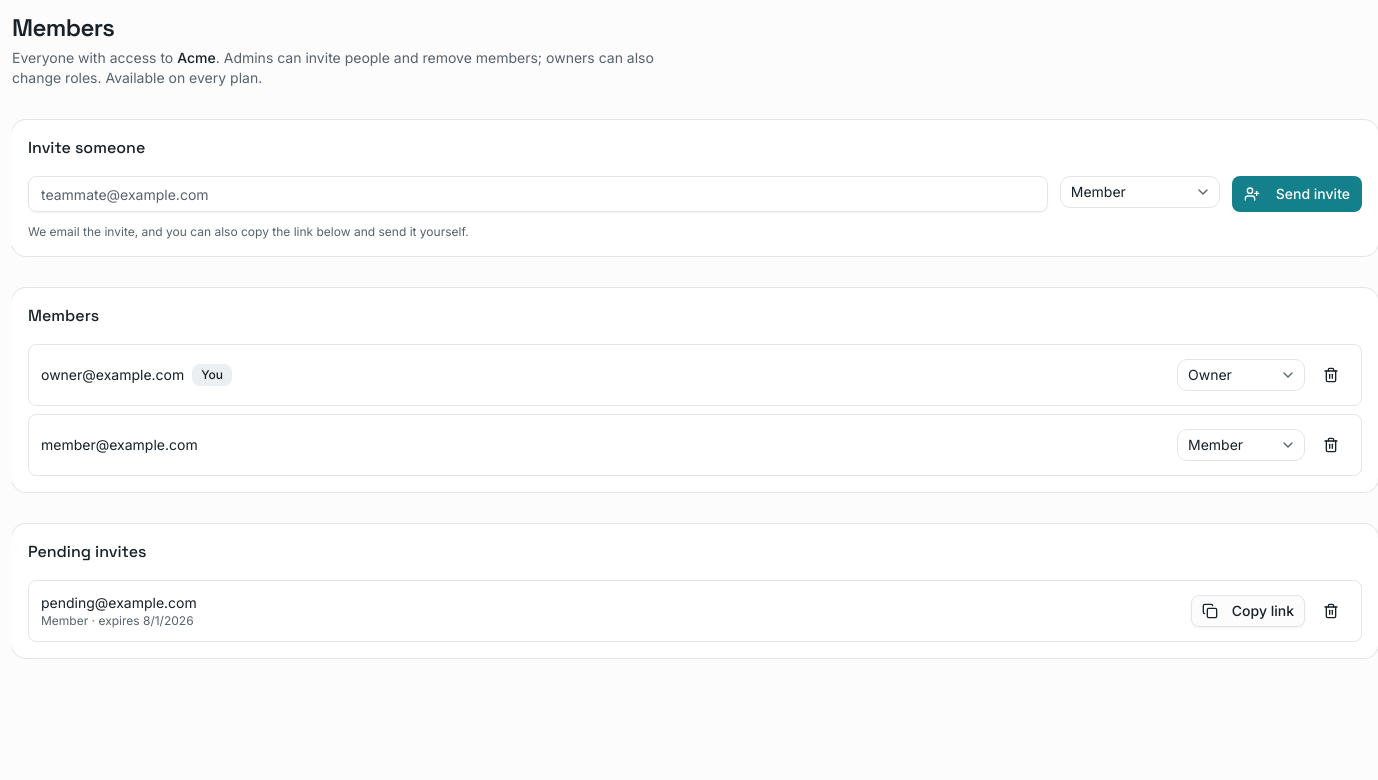
Test: TeamPage › refreshes the viewer's own role after a role change (self-demotion)
The image size is (1378, 780).
Expected: the text "owner@example.com" is shown, [41,365,184,385]
Click the dropdown named "Role for owner@example.com" at (1241, 375), box [1177,359,1305,391]
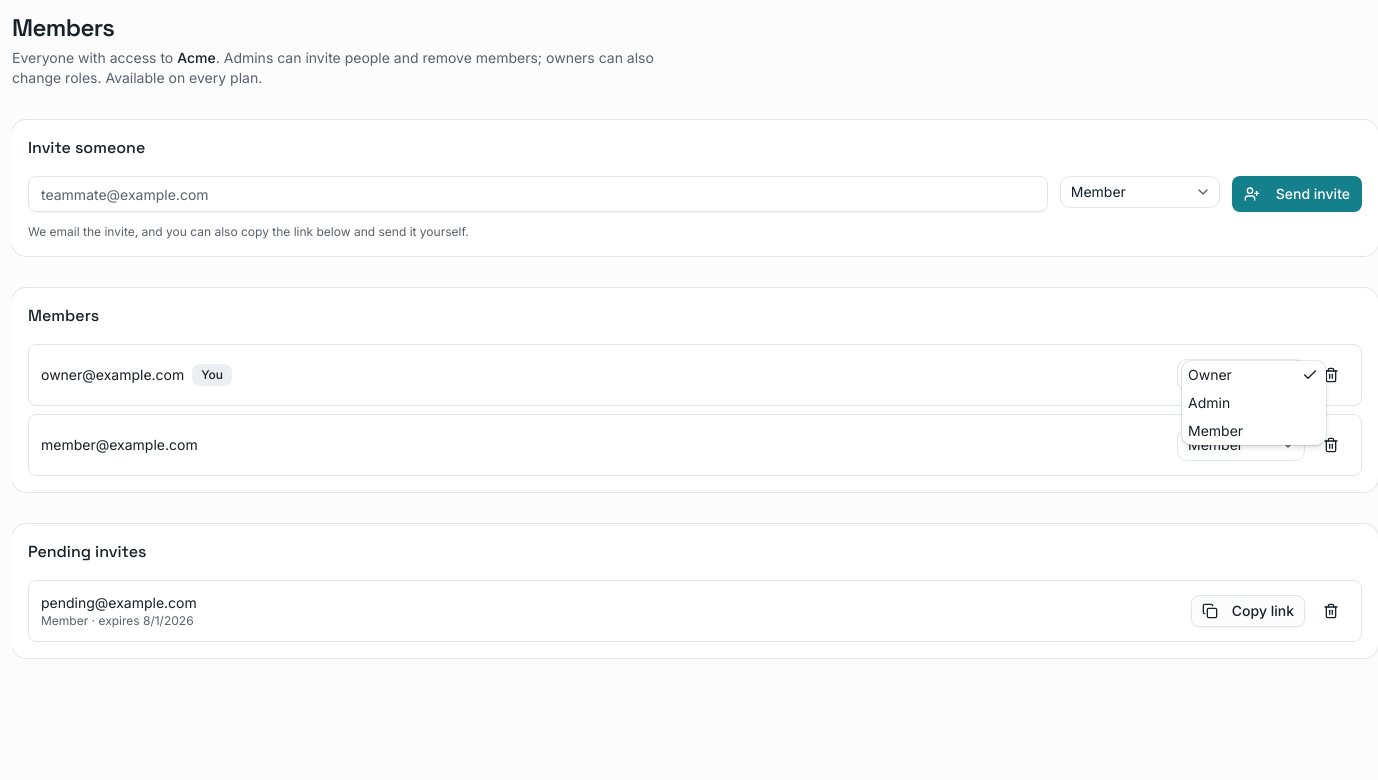
Now the option "Owner" is shown, box [1182,361,1326,389]
Click the option "Member" at (1216, 430), box [1188,422,1243,439]
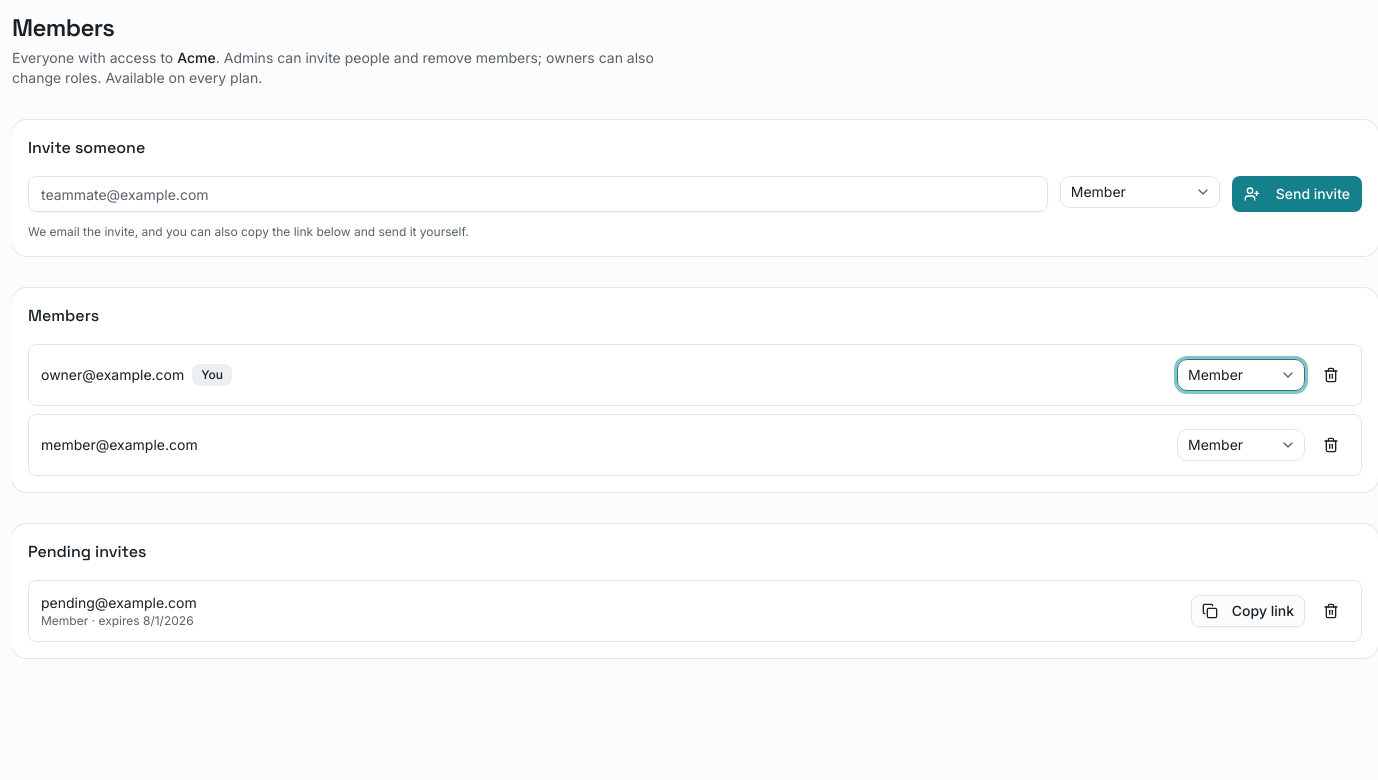
Now the dropdown named "Role for owner@example.com" shows "Member", box [1177,359,1305,391]
